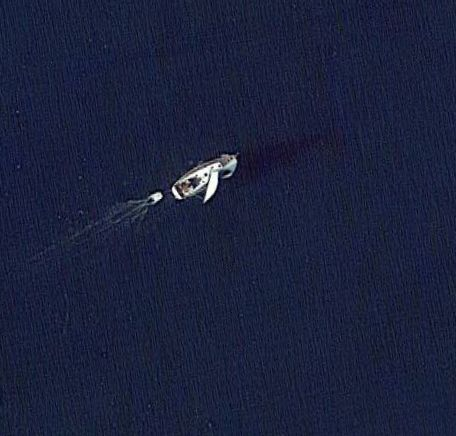boat: (168, 151, 241, 206)
